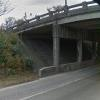Bridge: (12, 5, 100, 50)
